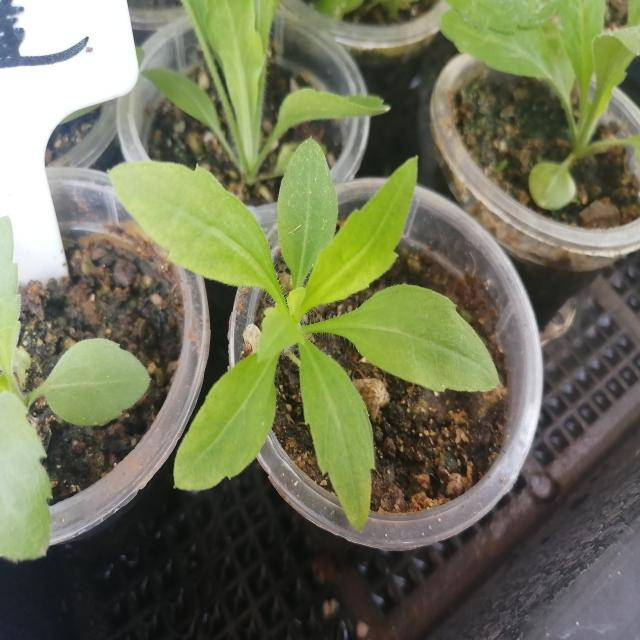horseweed: (131, 144, 498, 488)
